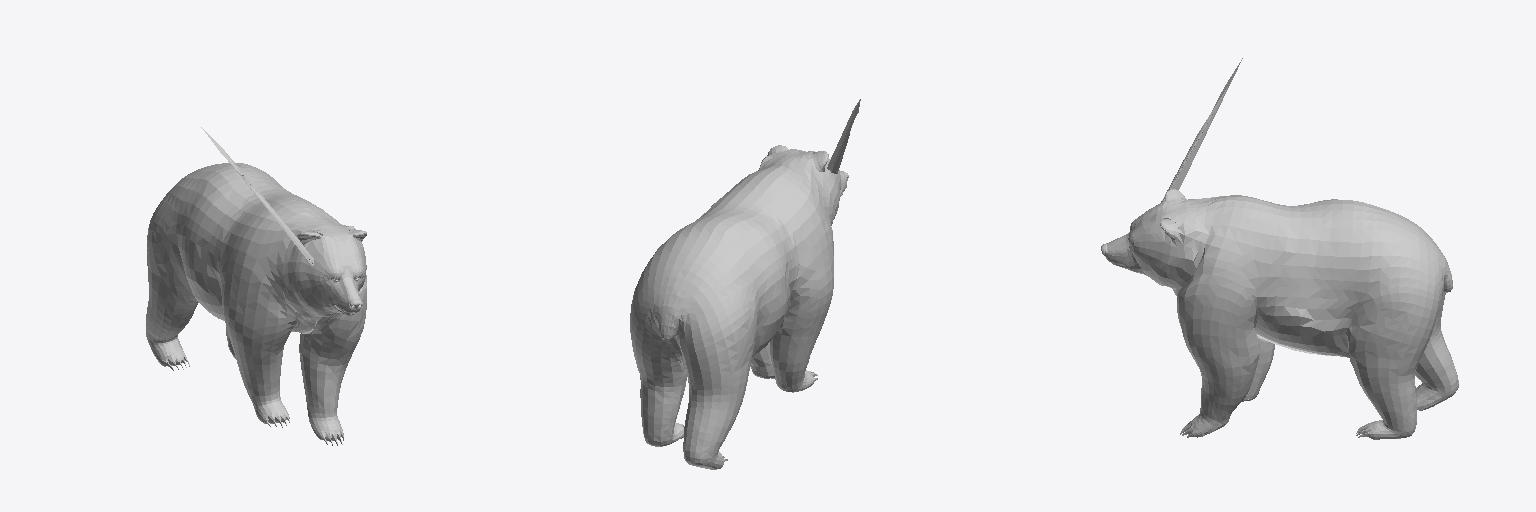
The model's file is Bear0128.obj.
3 views of the same model, side by side, from view 1: azimuth 30°, elevation 25°; view 2: azimuth 150°, elevation 25°; view 3: azimuth 270°, elevation 25° (orthographic).
Visible parts, largest first — view 1: Object_237; view 2: Object_237; view 3: Object_237.
Part boxes in pixels (bbox=[...]): Object_237: bbox=[146, 127, 366, 445]; Object_237: bbox=[630, 99, 860, 469]; Object_237: bbox=[1101, 58, 1458, 439].
Size of the model in its own units: 2.38 by 4.95 by 4.92.